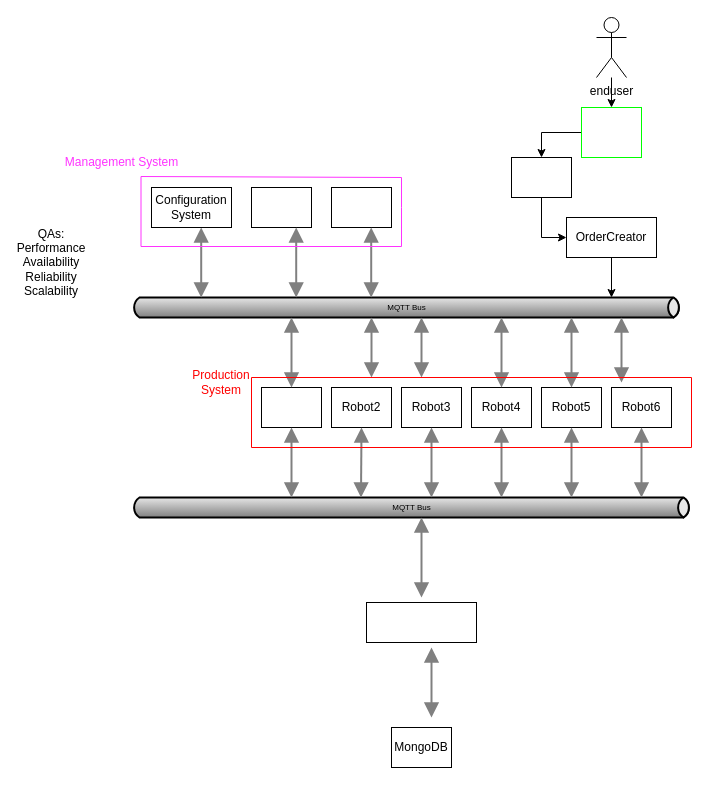
Image size: 710x785. Some labels were removed from this diagram. Each missing label, with the centre of its shape:
Monitoring System: pixel 281 207
PythonConnector: pixel 421 622
Robot1: pixel 291 407
Scheduling System: pixel 361 207
SQL Database: pixel 541 177
User Interface (Web): pixel 611 132
